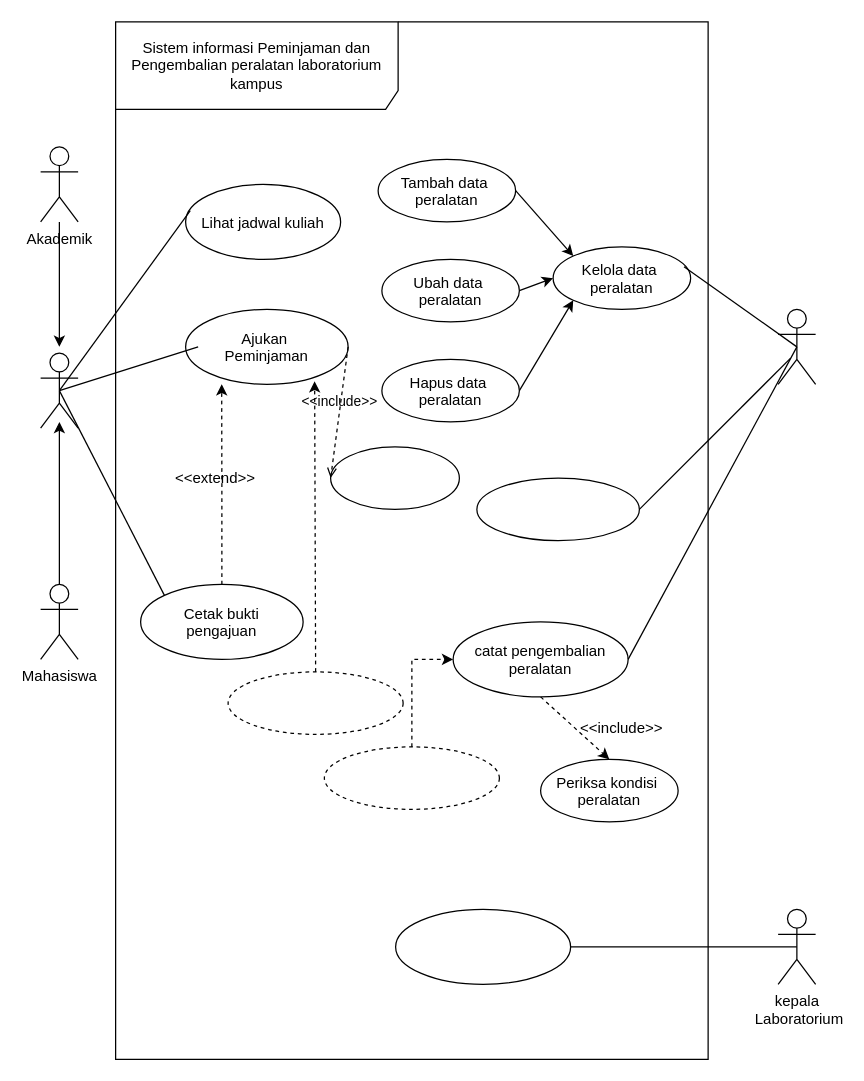
Some shapes in this 864 by 1081 pixel diagram are drawn without their labels. Here are the shapes that lost their labels. From the top down, the centre of each, then its label:
At point (796, 346): "Petugas Laboratorium".
At point (58, 390): "Peminjam".
At point (394, 477): "Pemeriksa ketersediaan".
At point (557, 509): "Memproses keputusan peminjaman".
At point (315, 702): "proses ajukan peminjaman".
At point (411, 777): "Proses catat pengembalian peralatan".
At point (482, 946): "Melihat laporan peminjaman".
